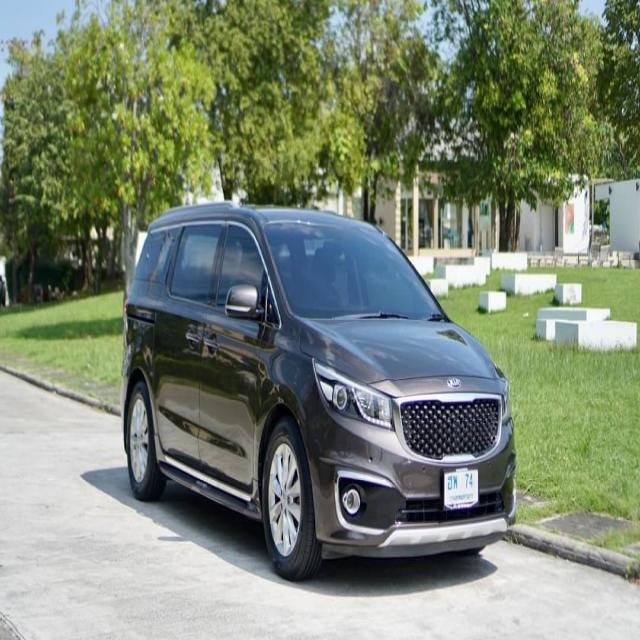license_plate: (440, 467, 481, 512)
